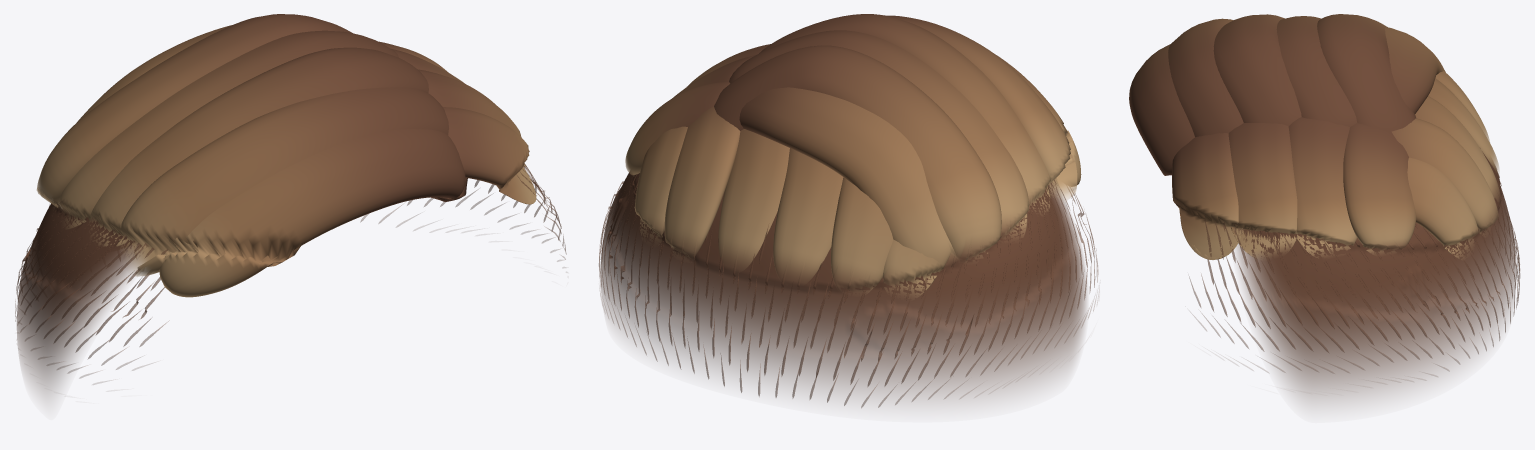
File: Masculine-taper-headband259-hair-ombre.glb
3 views of the same model, side by side, from view 1: azimuth 30°, elevation 25°; view 2: azimuth 150°, elevation 25°; view 3: azimuth 270°, elevation 25° (orthographic). The views are drawn at different scales.
Parts seen in each view (by area): view 1: 226 hair / Hair258 / sculpted side sweep 1, 226 hair / Hair258 / sculpted side sweep 0, 226 hair / Hair258 / sculpted side sweep 2, 226 hair / Hair258 / smooth side fade, 226 hair / Hair259 / directional fade marks214; view 2: 226 hair / Hair258 / smooth side fade, 226 hair / Hair258 / sculpted side sweep 0, 226 hair / Hair258 / sculpted side sweep 1, 226 hair / Hair258 / sculpted side sweep 2, 226 hair / Hair259 / directional fade marks214; view 3: 226 hair / Hair258 / smooth side fade, 226 hair / Hair258 / sculpted side sweep 0, 226 hair / Hair258 / sculpted side sweep 1, 226 hair / Hair258 / sculpted side sweep 2, 226 hair / Hair259 / directional fade marks214.
Boxes of the visible parts, x1=… form: 226 hair / Hair258 / sculpted side sweep 1: x1=57, y1=30, x2=536, y2=297; 226 hair / Hair258 / sculpted side sweep 0: x1=36, y1=14, x2=525, y2=276; 226 hair / Hair258 / sculpted side sweep 2: x1=89, y1=47, x2=464, y2=247; 226 hair / Hair258 / smooth side fade: x1=17, y1=163, x2=546, y2=397; 226 hair / Hair259 / directional fade marks214: x1=15, y1=165, x2=566, y2=384; 226 hair / Hair258 / smooth side fade: x1=600, y1=171, x2=1086, y2=402; 226 hair / Hair258 / sculpted side sweep 0: x1=664, y1=15, x2=1077, y2=293; 226 hair / Hair258 / sculpted side sweep 1: x1=625, y1=30, x2=1081, y2=297; 226 hair / Hair258 / sculpted side sweep 2: x1=634, y1=14, x2=1050, y2=283; 226 hair / Hair259 / directional fade marks214: x1=599, y1=173, x2=1099, y2=407; 226 hair / Hair258 / smooth side fade: x1=1236, y1=151, x2=1516, y2=403; 226 hair / Hair258 / sculpted side sweep 0: x1=1168, y1=14, x2=1498, y2=259; 226 hair / Hair258 / sculpted side sweep 1: x1=1129, y1=16, x2=1499, y2=259; 226 hair / Hair258 / sculpted side sweep 2: x1=1213, y1=14, x2=1499, y2=259; 226 hair / Hair259 / directional fade marks214: x1=1189, y1=148, x2=1520, y2=380.
Bounding box in the file's own units: 0.9743 × 0.6474 × 0.7585.
